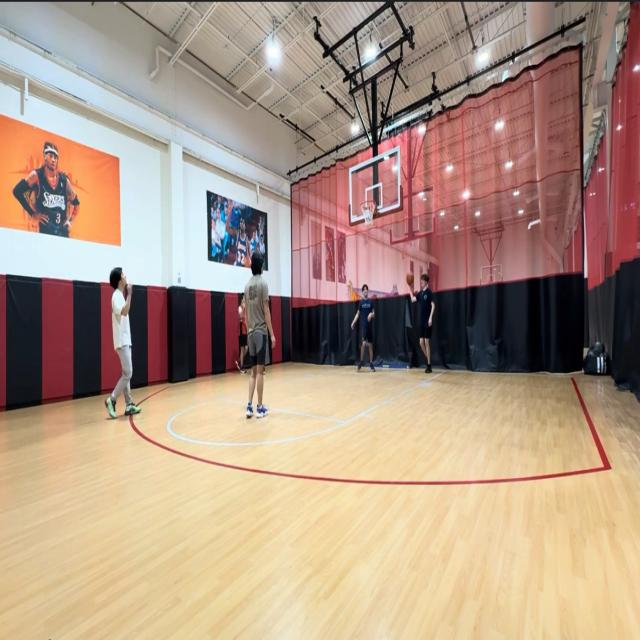Basketball: (407, 272, 414, 285)
Basketball Rim: (360, 200, 377, 227)
Player: (104, 266, 140, 420), (245, 251, 275, 420), (408, 272, 434, 375), (352, 284, 378, 373), (235, 290, 246, 372)
